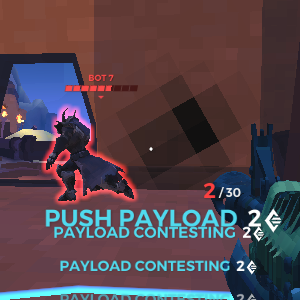model: (42, 108, 141, 206)
